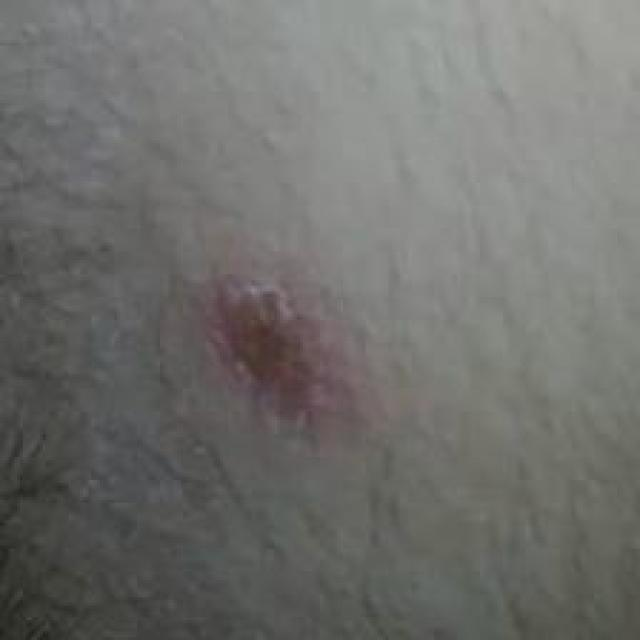others: (0, 3, 617, 608)
